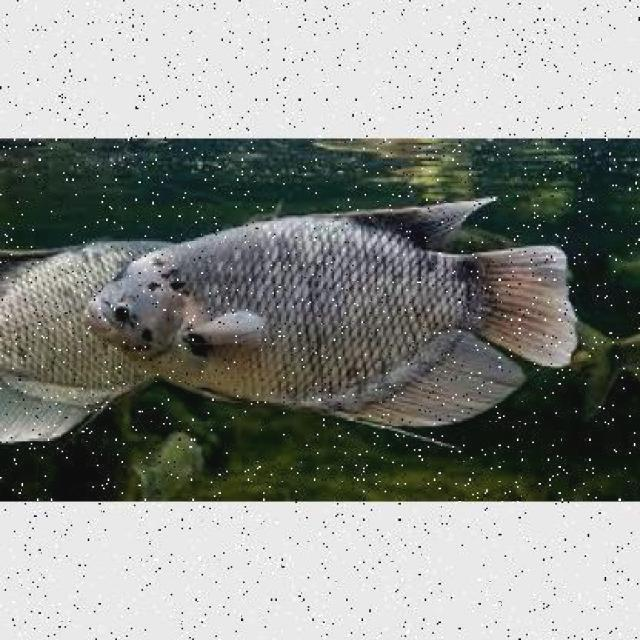gurame: (82, 192, 567, 448), (0, 223, 178, 438)
